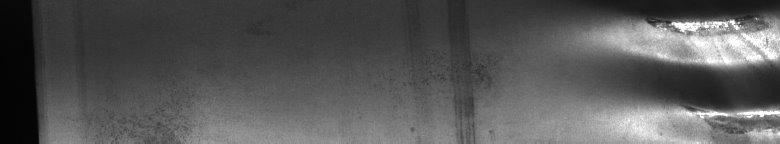ke: (615, 4, 776, 136)
